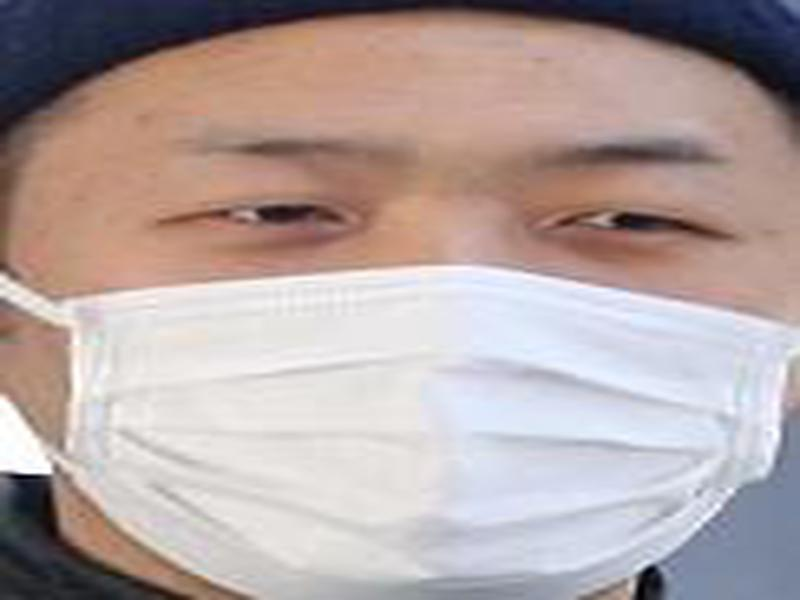with_mask: (1, 5, 796, 593)
